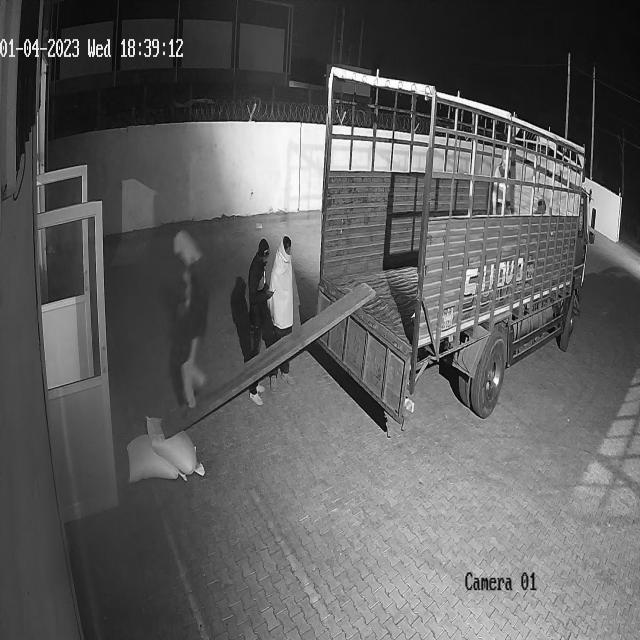sack: (144, 414, 207, 475), (128, 432, 187, 484)
